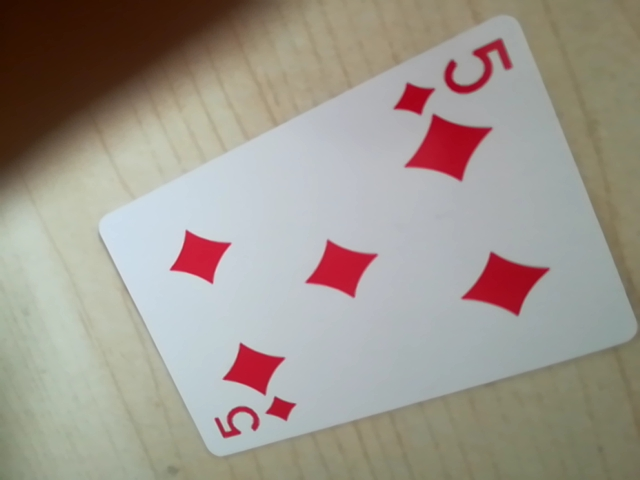fk 5: (391, 33, 515, 120), (211, 392, 300, 448)
